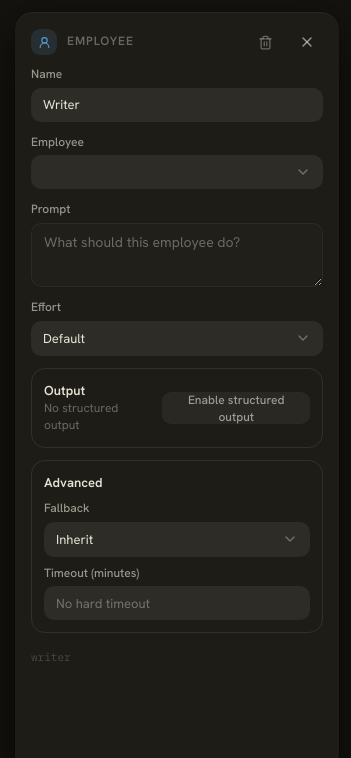
Scenario: employee inspector output schema › shows an inline error for an invalid field name without committing it
Click the button "Enable structured output" at (236, 408), box [162,392,310,424]
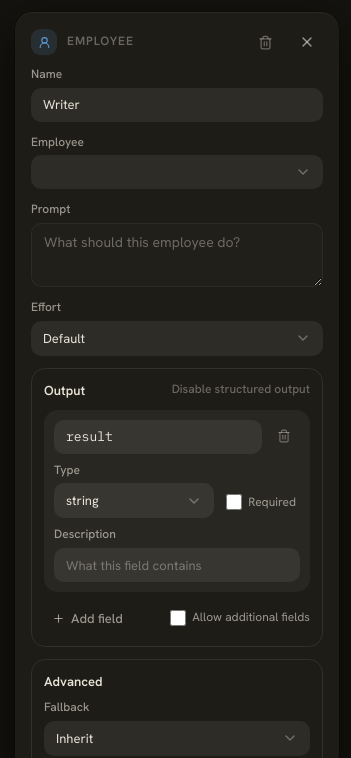
Type "bad.name" into the field named "Output field 1 name" at (158, 437), box [54,420,262,454]
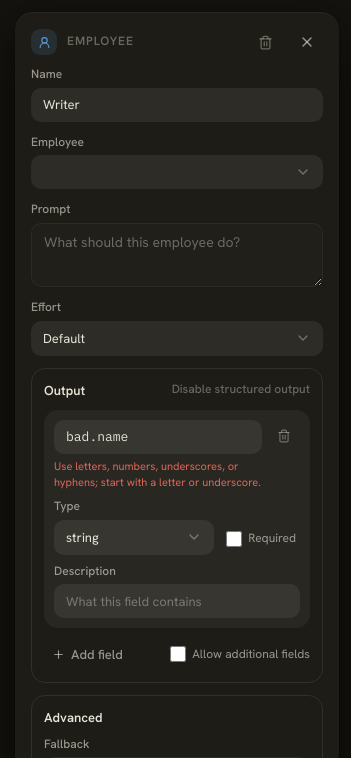
Expected: the text "Use letters, numbers, underscores, or hyphens; start with a letter or underscore." is shown, [54,459,261,489]
